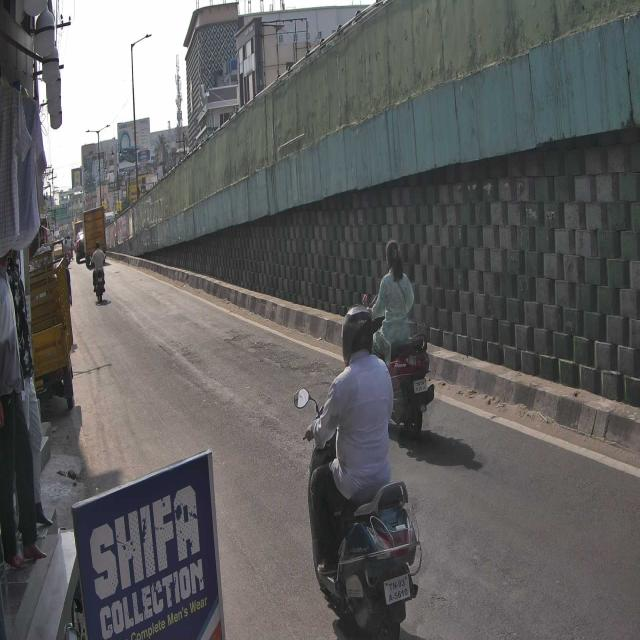single_rider: (293, 303, 424, 640)
